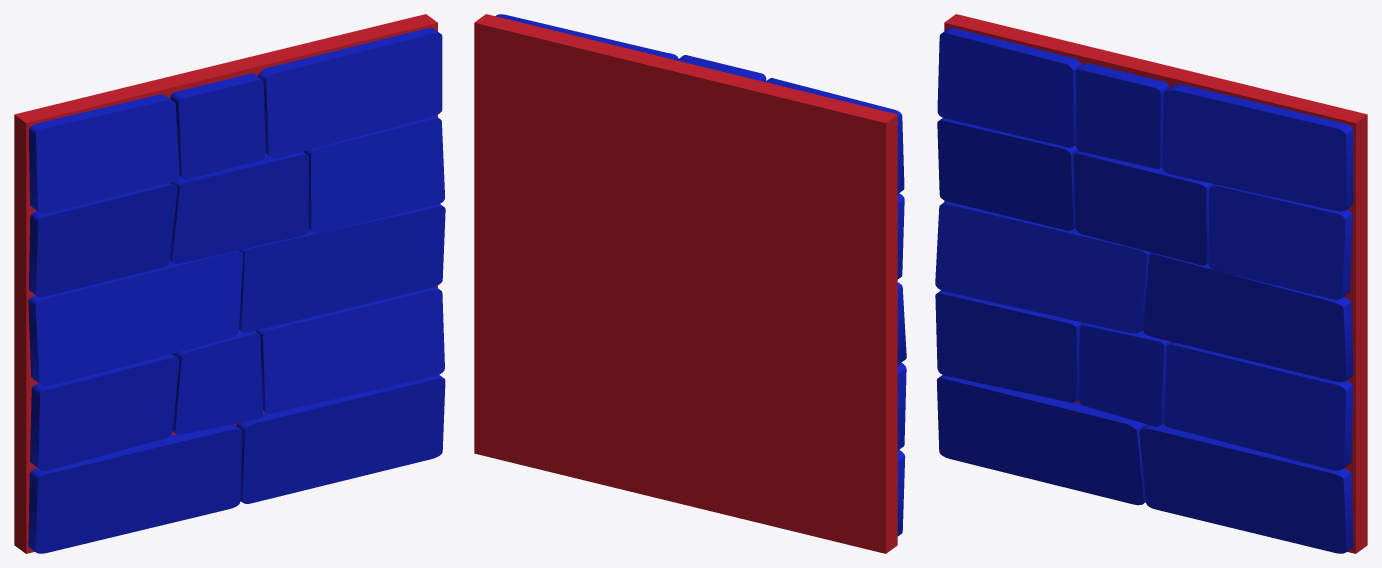
The model's file is Unity HD Render Pipeline (Metallic Standard).fbx.
The picture shows the model from 3 angles, left to right: view 1: azimuth 30°, elevation 25°; view 2: azimuth 150°, elevation 25°; view 3: azimuth 330°, elevation 25°; orthographic projection.
Visible parts, largest first — view 1: Wall (×2); view 2: Wall (×2); view 3: Wall (×2).
Boxes of the visible parts, box(x1,y1,x2,y2) form: Wall (×2): box(14, 14, 445, 553); Wall (×2): box(474, 14, 906, 553); Wall (×2): box(935, 14, 1367, 553).
Size of the model in its own units: 2 by 2 by 0.2119.
